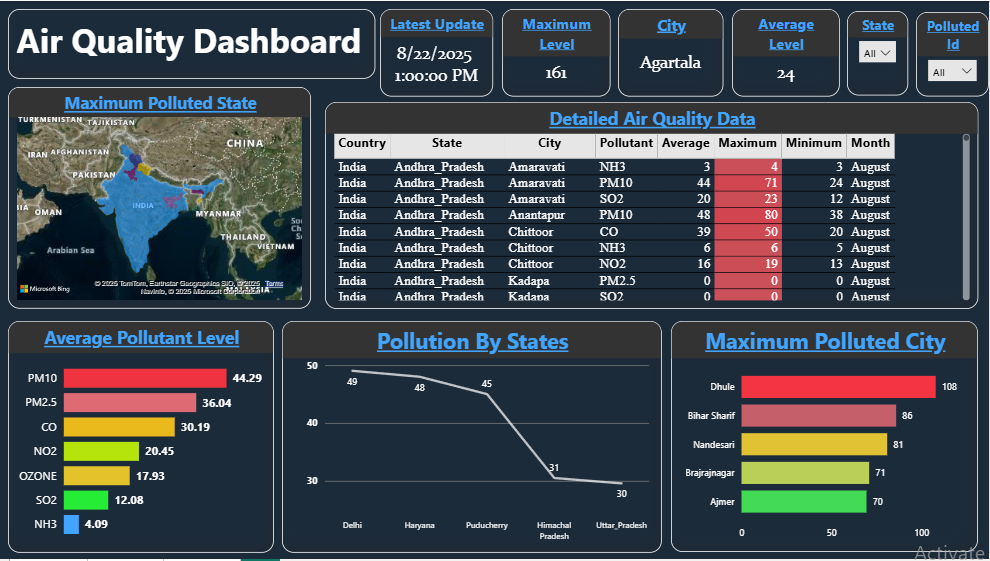

The page's visual inventory and layout, read from the dashboard file:
{"tool":"powerbi","page":{"name":"Page 2","canvas":[1280,720],"ordinal":0},"visuals":[{"type":"slicer","title":"Polluted Id","fields":{"Values":["Air quality data.pollutant_id"]},"box":[1185.7,14.3,94.3,108.6],"z":0},{"type":"slicer","title":"State","fields":{"Values":["Air quality data.state"]},"box":[1097.1,12.9,78.6,108.6],"z":2000},{"type":"card","title":"Latest Update","fields":{"Values":["Air quality data.Latest Update"]},"box":[494.3,10,145.7,112.9],"z":3000},{"type":"card","title":"Maximum Level","fields":{"Values":["Air quality data.Max Pollution Level"]},"box":[651.4,10,140,112.9],"z":4000},{"type":"card","title":"City","fields":{"Values":["Air quality data.Most Polluted city"]},"box":[801.4,10,135.7,112.9],"z":5000},{"type":"filledMap","title":"Maximum Polluted State","fields":{"Category":["Air quality data.state"],"Series":["Air quality data.pollutant_id"]},"box":[14.3,111.4,391.4,285.7],"z":6000},{"type":"barChart","title":"Average Pollutant Level","fields":{"Category":["Air quality data.pollutant_id"],"Y":["Avg(Air quality data.pollutant_avg)"]},"box":[14.2,412.4,343,299.1],"z":7000},{"type":"tableEx","title":"Detailed Air Quality Data","fields":{"Values":["Air quality data.country","Air quality data.state","Air quality data.city","Air quality data.pollutant_id","Air quality data.pollutant_avg","Air quality data.pollutant_max","Air quality data.pollutant_min","Air quality data.last_update.Variation.Date Hierarchy.Month"]},"box":[422.9,130,842.9,267.1],"z":8000},{"type":"card","title":"Average Level","fields":{"Values":["Air quality data.Avg Pollution Level"]},"box":[948.6,10,138.6,112.9],"z":9000},{"type":"barChart","title":"Maximum Polluted City","fields":{"Category":["Air quality data.city"],"Y":["Air quality data.Avg Pollution Level"]},"box":[869.7,412.9,396.1,298.1],"z":10000},{"type":"textbox","box":[14.3,10,474.3,90],"z":11000},{"type":"lineChart","title":"Pollution By States","fields":{"Y":["Air quality data.Avg Pollution Level"],"Category":["Air quality data.state"]},"box":[367.5,412.9,490,298.7],"z":12000}]}

Visuals, with their boxes in screenshot pixels (x1, y1, x2, y2), scaled from the page's 1280x720 canvas onto the 990x561 screenshot:
"Polluted Id" slicer: region(917, 11, 989, 96)
"State" slicer: region(849, 10, 909, 95)
"Latest Update" card: region(382, 8, 495, 96)
"Maximum Level" card: region(504, 8, 612, 96)
"City" card: region(620, 8, 725, 96)
"Maximum Polluted State" filledMap: region(11, 87, 314, 309)
"Average Pollutant Level" barChart: region(11, 321, 276, 554)
"Detailed Air Quality Data" tableEx: region(327, 101, 979, 309)
"Average Level" card: region(734, 8, 841, 96)
"Maximum Polluted City" barChart: region(673, 322, 979, 554)
textbox: region(11, 8, 378, 78)
"Pollution By States" lineChart: region(284, 322, 663, 554)
